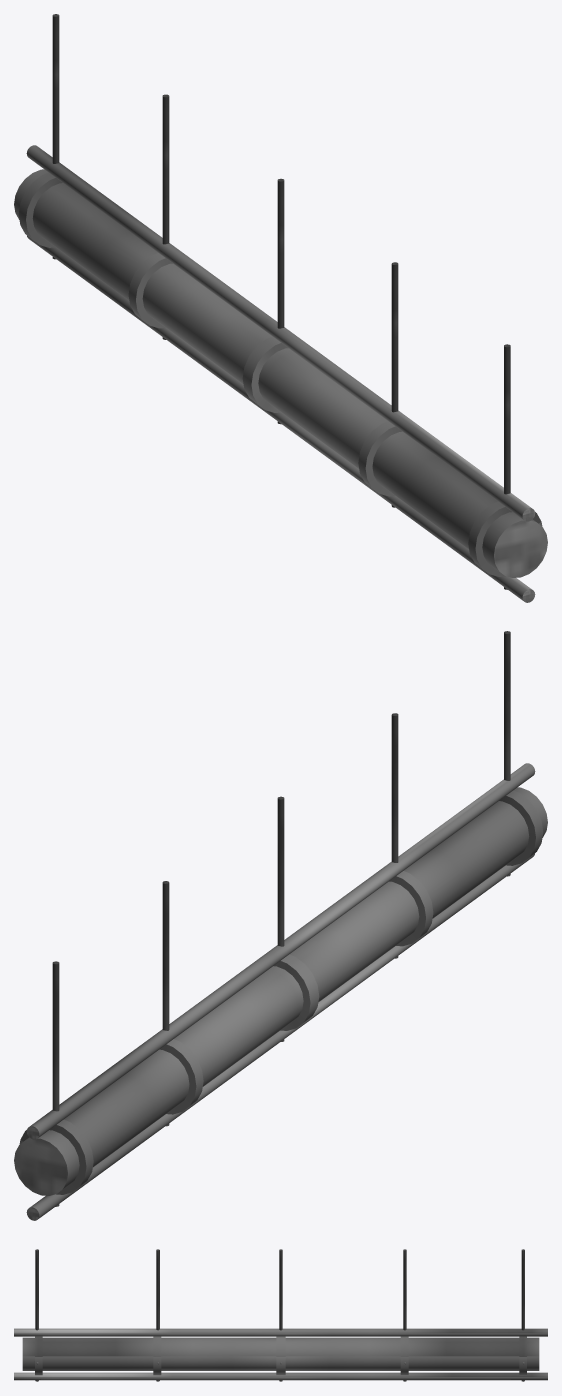
Rendered from Big_pipe.fbx.
3 renders of one model, top to bottom at view 1: azimuth 30°, elevation 25°; view 2: azimuth 150°, elevation 25°; view 3: azimuth 270°, elevation 25°, orthographic. The views are drawn at different scales.
Visible parts, largest first — view 1: Pipe; view 2: Pipe; view 3: Pipe.
Boxes of the visible parts, x1,y1,x2,y2 form: Pipe: (14,14,547,602); Pipe: (14,631,547,1220); Pipe: (14,1249,547,1381).
Size of the model in its own units: 12.57 by 42.83 by 159.
